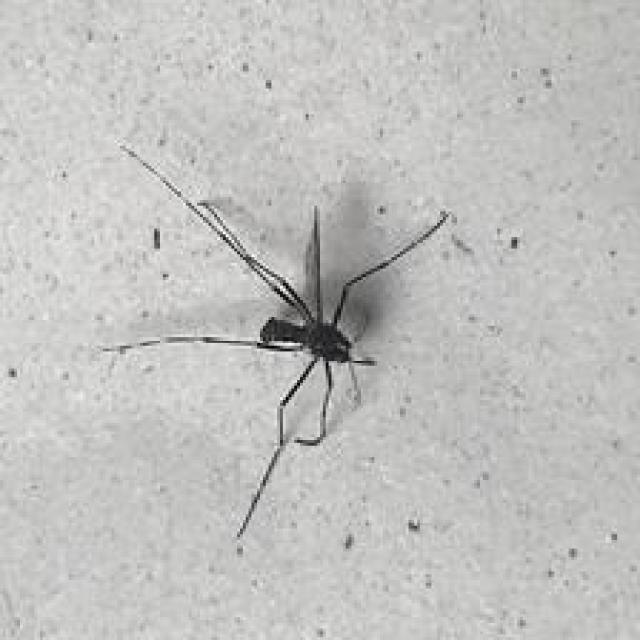Aedes albopictus: (98, 142, 453, 542)
